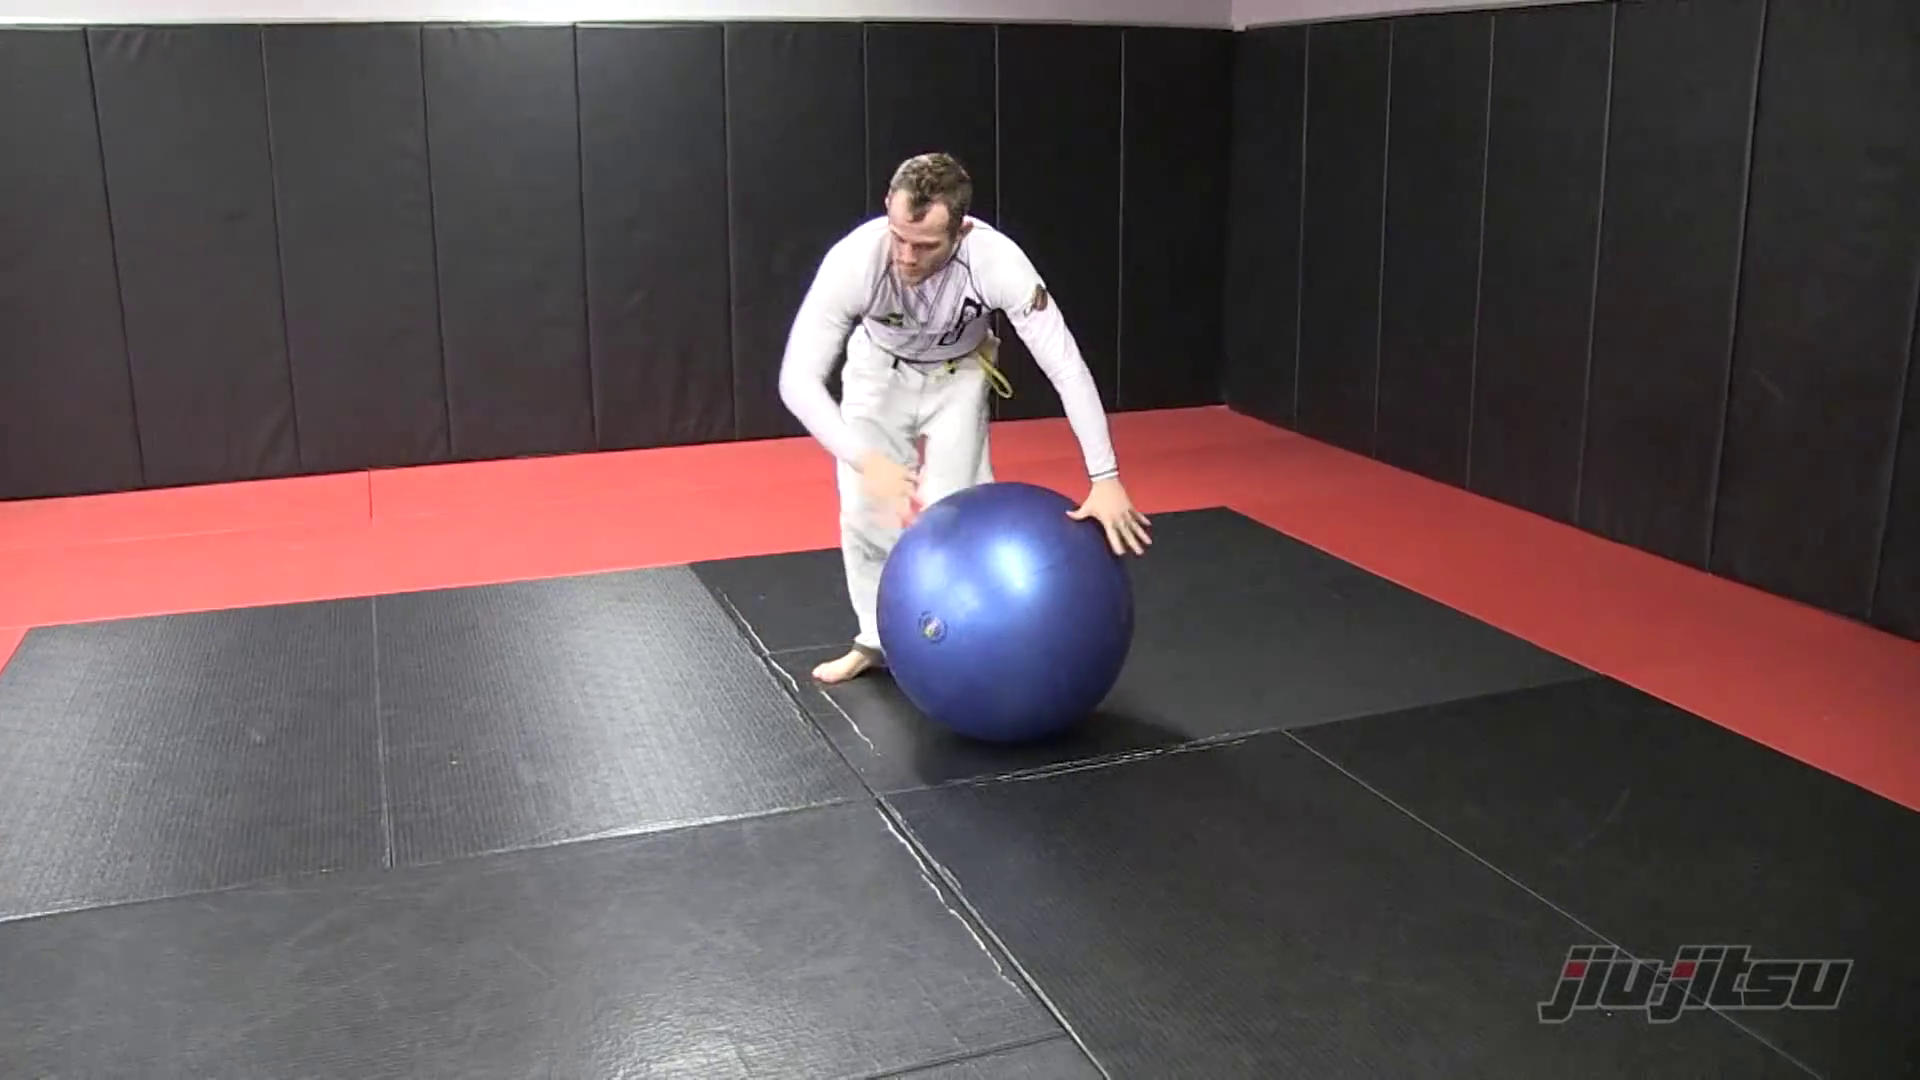yogaball: (868, 476, 1162, 762)
